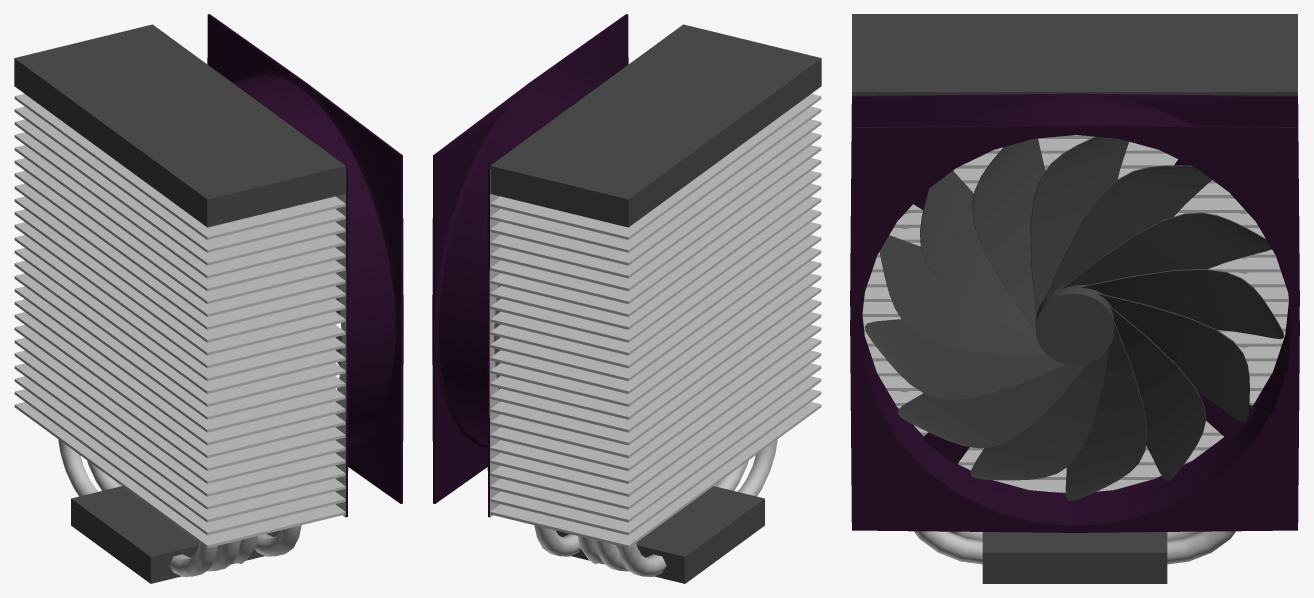
Rendered from БАШЕННЫЙ.fbx.
The picture shows the model from 3 angles, left to right: view 1: azimuth 30°, elevation 25°; view 2: azimuth 150°, elevation 25°; view 3: azimuth 270°, elevation 25°; orthographic projection. The views are drawn at different scales.
Visible parts, largest first — view 1: Cylinder.002; view 2: Cylinder.002; view 3: Cylinder.002, Cylinder.001.
Part boxes in pixels (left/top/right/bottom): Cylinder.002: left=14, top=14, right=403, bottom=583; Cylinder.002: left=432, top=14, right=821, bottom=583; Cylinder.002: left=850, top=14, right=1299, bottom=583; Cylinder.001: left=864, top=136, right=1283, bottom=500.
Bounding box in the file's own units: 14.17 × 29.44 × 24.39.
